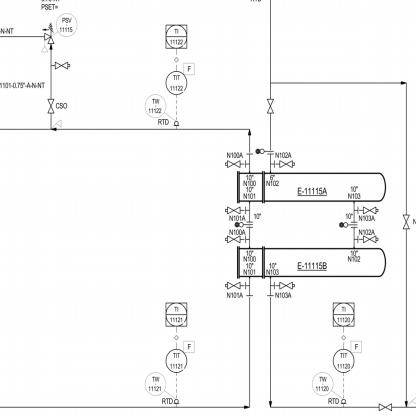LMI: (165, 71, 188, 95), (332, 349, 354, 373), (166, 349, 187, 373)
TAG: (158, 291, 194, 327), (160, 16, 197, 49), (331, 301, 355, 327)
